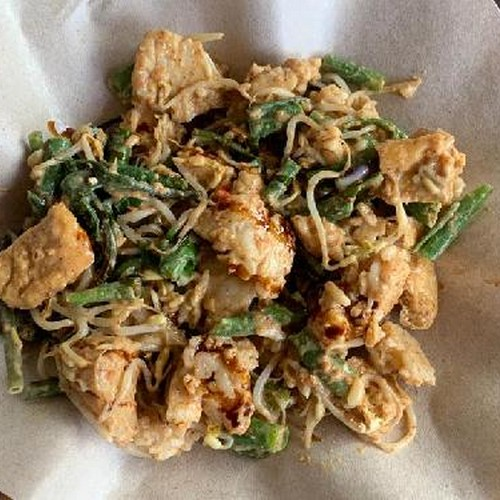tipat cantok: (20, 25, 471, 455)
